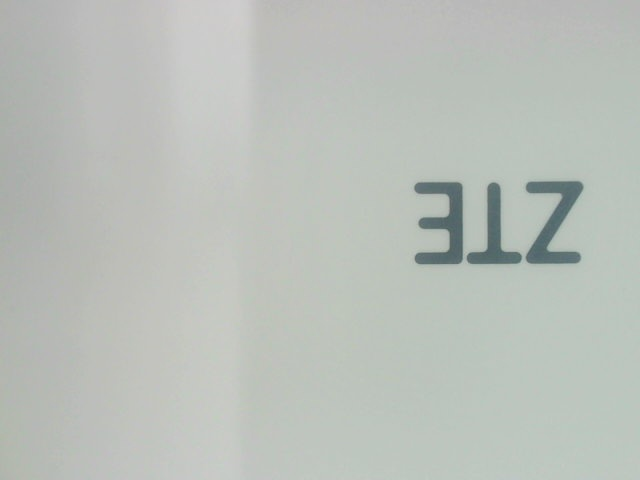AN_ZTELarge: (401, 167, 595, 277)
